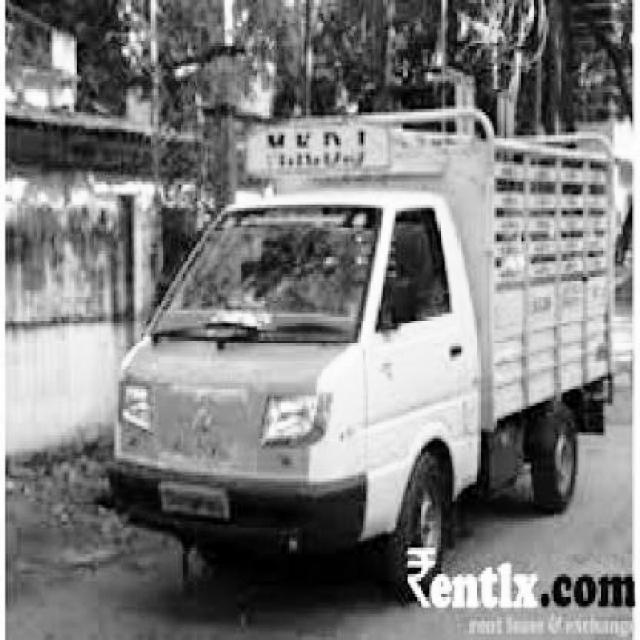LCV: (109, 92, 601, 577)
